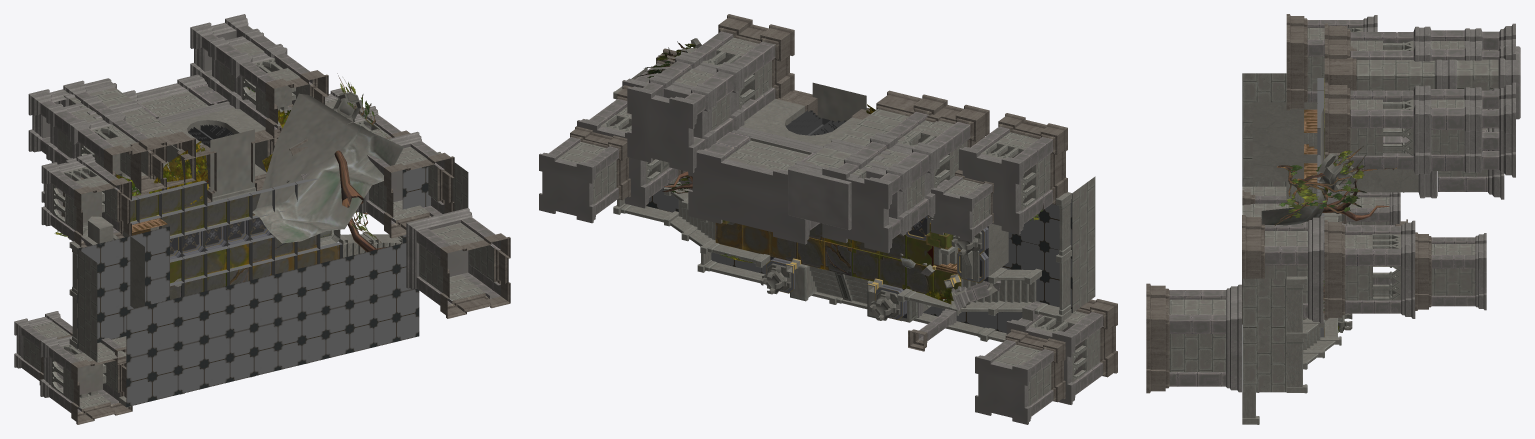
The model's file is BATTLE.fbx.
3 views of the same model, side by side, from view 1: azimuth 30°, elevation 25°; view 2: azimuth 150°, elevation 25°; view 3: azimuth 270°, elevation 25° (orthographic). The views are drawn at different scales.
Visible parts, largest first — view 1: S_Outworld_outside_07, S_playground, S_Outworld_outside_06, S_Outworld_building_05, S_Outworld_building_16, S_Outworld_building_21, S_Outworld_building_22, S_Outworld_building_10, S_Outworld_building_18, S_Outworld_building_19, S_Outworld_wall02_09, S_Outworld_building_09 (+7 smaller); view 2: S_Outworld_building_05, S_Outworld_building_21, S_Outworld_building_08, S_playground, S_Outworld_building_22, S_Outworld_building_09, S_Outworld_building_48, S_Outworld_building_14, S_Outworld_outside_07, S_Outworld_building_18, S_Outworld_building_10, S_Outworld_wall02_09 (+18 smaller); view 3: S_Outworld_building_05, S_Outworld_wall02_09, S_Outworld_building_16, S_Outworld_building_20, S_Outworld_building_09, S_Outworld_building_21, S_Outworld_building_19, S_Outworld_building_48, S_Outworld_building_22, S_Outworld_zhiwu_3, S_Outworld_building_10, S_Outworld_building_08 (+12 smaller).
Boxes of the visible parts, bbox=[...] form: S_Outworld_outside_07: bbox=[77, 165, 436, 407]; S_playground: bbox=[130, 178, 342, 299]; S_Outworld_outside_06: bbox=[252, 93, 403, 243]; S_Outworld_building_05: bbox=[190, 14, 328, 145]; S_Outworld_building_16: bbox=[406, 208, 510, 318]; S_Outworld_building_21: bbox=[28, 80, 166, 197]; S_Outworld_building_22: bbox=[41, 153, 131, 248]; S_Outworld_building_10: bbox=[157, 101, 279, 203]; S_Outworld_building_18: bbox=[40, 336, 132, 424]; S_Outworld_building_19: bbox=[356, 131, 454, 238]; S_Outworld_wall02_09: bbox=[78, 162, 468, 362]; S_Outworld_building_09: bbox=[58, 78, 195, 193]; S_Outworld_building_05: bbox=[627, 14, 794, 172]; S_Outworld_building_21: bbox=[822, 94, 989, 253]; S_Outworld_building_08: bbox=[688, 131, 819, 244]; S_playground: bbox=[715, 216, 989, 320]; S_Outworld_building_22: bbox=[959, 113, 1067, 234]; S_Outworld_building_09: bbox=[788, 90, 953, 230]; S_Outworld_building_48: bbox=[539, 126, 630, 223]; S_Outworld_building_14: bbox=[975, 329, 1065, 424]; S_Outworld_outside_07: bbox=[646, 179, 1072, 333]; S_Outworld_building_18: bbox=[1006, 299, 1117, 404]; S_Outworld_building_10: bbox=[732, 82, 869, 154]; S_Outworld_wall02_09: bbox=[631, 67, 1095, 313]; S_Outworld_building_05: bbox=[1324, 82, 1515, 177]; S_Outworld_wall02_09: bbox=[1242, 73, 1317, 392]; S_Outworld_building_16: bbox=[1146, 283, 1241, 393]; S_Outworld_building_20: bbox=[1324, 220, 1415, 319]; S_Outworld_building_09: bbox=[1324, 44, 1520, 119]; S_Outworld_building_21: bbox=[1324, 23, 1515, 61]; S_Outworld_building_19: bbox=[1242, 215, 1323, 324]; S_Outworld_building_48: bbox=[1415, 232, 1486, 310]; S_Outworld_building_22: bbox=[1286, 14, 1377, 110]; S_Outworld_zhiwu_3: bbox=[1275, 146, 1396, 332]; S_Outworld_building_10: bbox=[1347, 168, 1437, 198]; S_Outworld_building_08: bbox=[1438, 88, 1504, 199].
Size of what is drawn, in the model's own units: 0.1727 by 0.1071 by 0.126.
